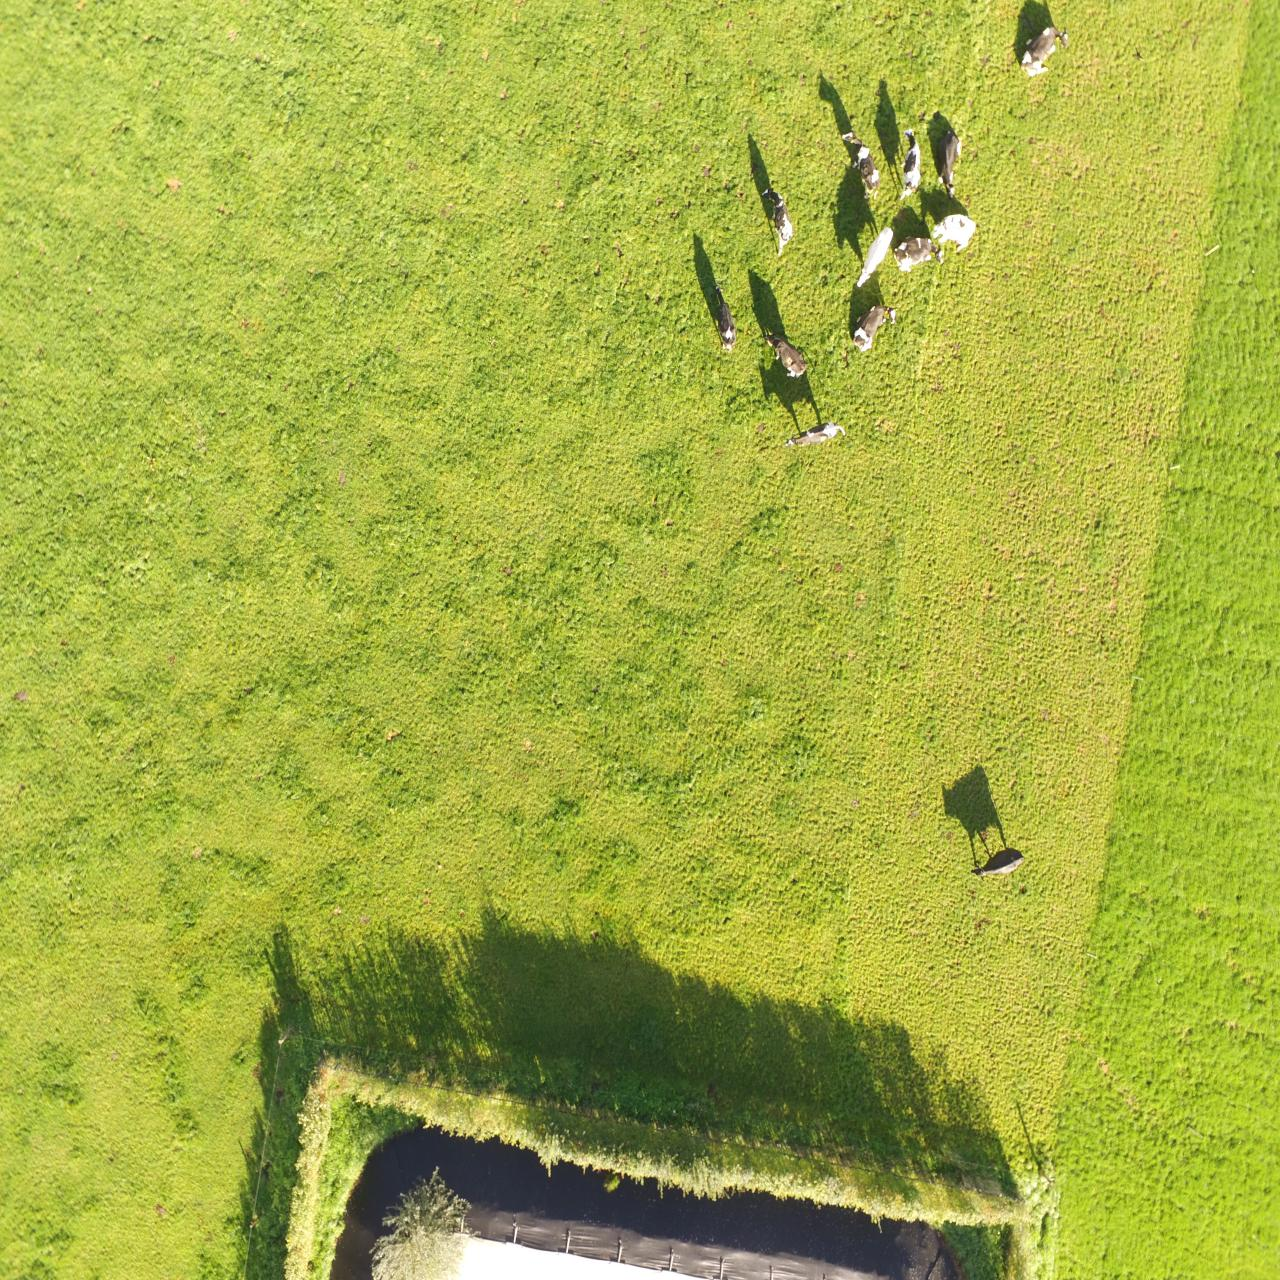cow: (1017, 23, 1070, 80), (839, 129, 880, 200), (845, 304, 899, 353), (855, 227, 896, 291), (763, 327, 806, 382), (760, 188, 795, 253), (893, 233, 944, 275), (937, 128, 965, 200), (784, 420, 847, 450), (972, 846, 1023, 880), (899, 128, 921, 205), (932, 213, 978, 250), (712, 292, 738, 353)
